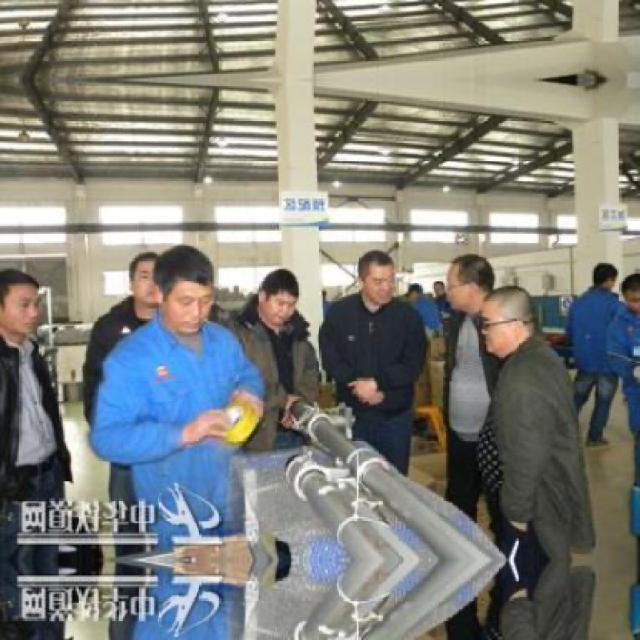sin casco: (343, 233, 428, 280), (145, 249, 210, 310), (0, 254, 61, 314), (486, 278, 551, 334), (448, 237, 502, 296), (112, 240, 177, 288), (268, 253, 314, 302)
